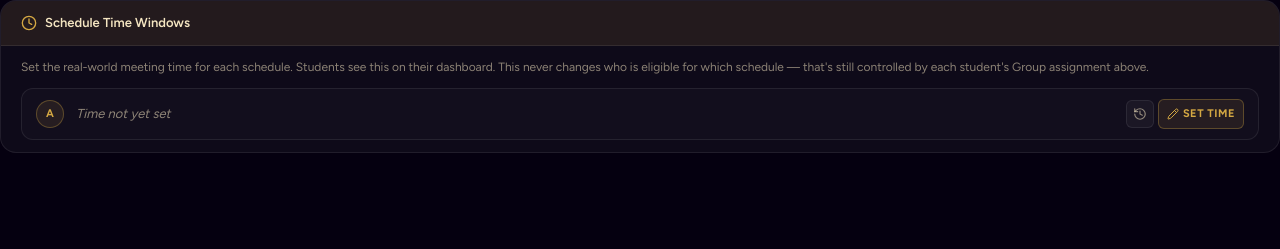
Scenario: Cancel discards the edit without calling setScheduleTimeWindow
Click the button with test id "schedule-time-window-edit-A": click(1201, 114) top-left (1158, 98), bottom-right (1244, 129)
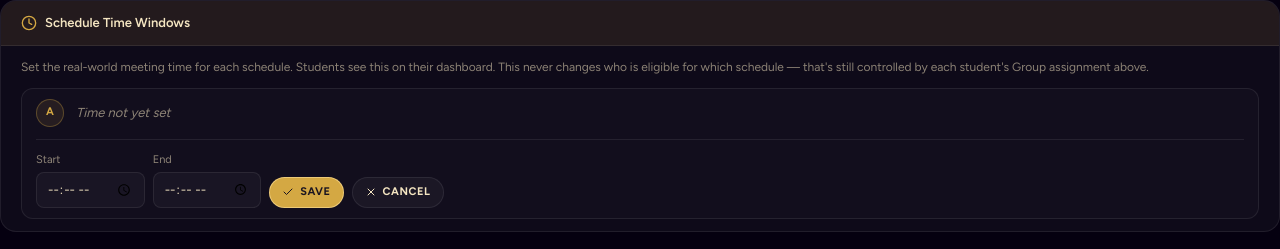
Click the button with test id "schedule-time-window-cancel-A": click(398, 192) top-left (352, 177), bottom-right (444, 208)
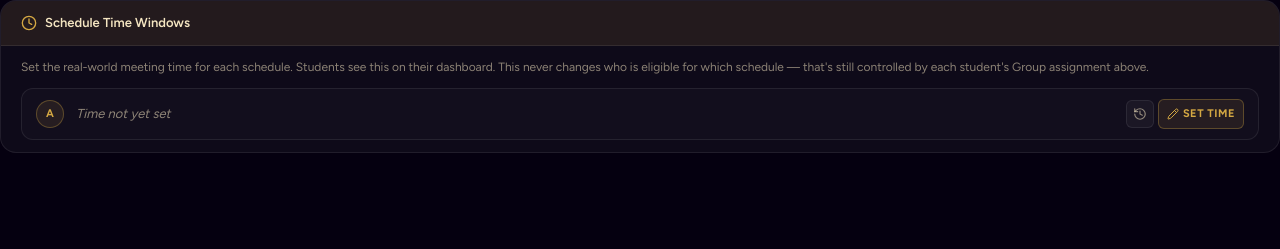
Now the time field with test id "schedule-time-window-start-A" is gone
